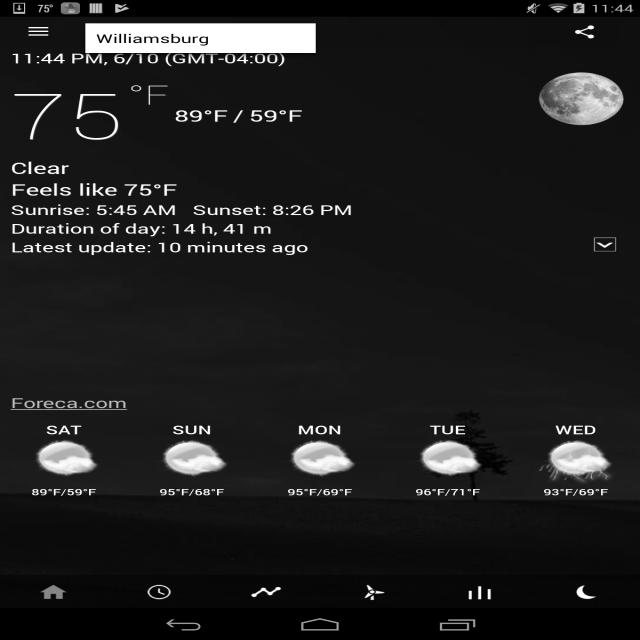ImageButton: (234, 571, 292, 611), (328, 575, 390, 606), (450, 578, 514, 602), (573, 21, 618, 50), (140, 578, 180, 608), (556, 581, 600, 604), (40, 581, 82, 602)
ImageView: (545, 82, 636, 138), (27, 444, 129, 483), (538, 440, 615, 481), (416, 438, 490, 478), (281, 442, 364, 475), (164, 441, 230, 477)
TextView: (9, 203, 365, 260), (31, 415, 614, 437), (12, 85, 170, 146), (0, 156, 202, 199), (8, 43, 306, 71), (164, 103, 307, 125), (6, 397, 220, 410), (86, 33, 250, 49)
